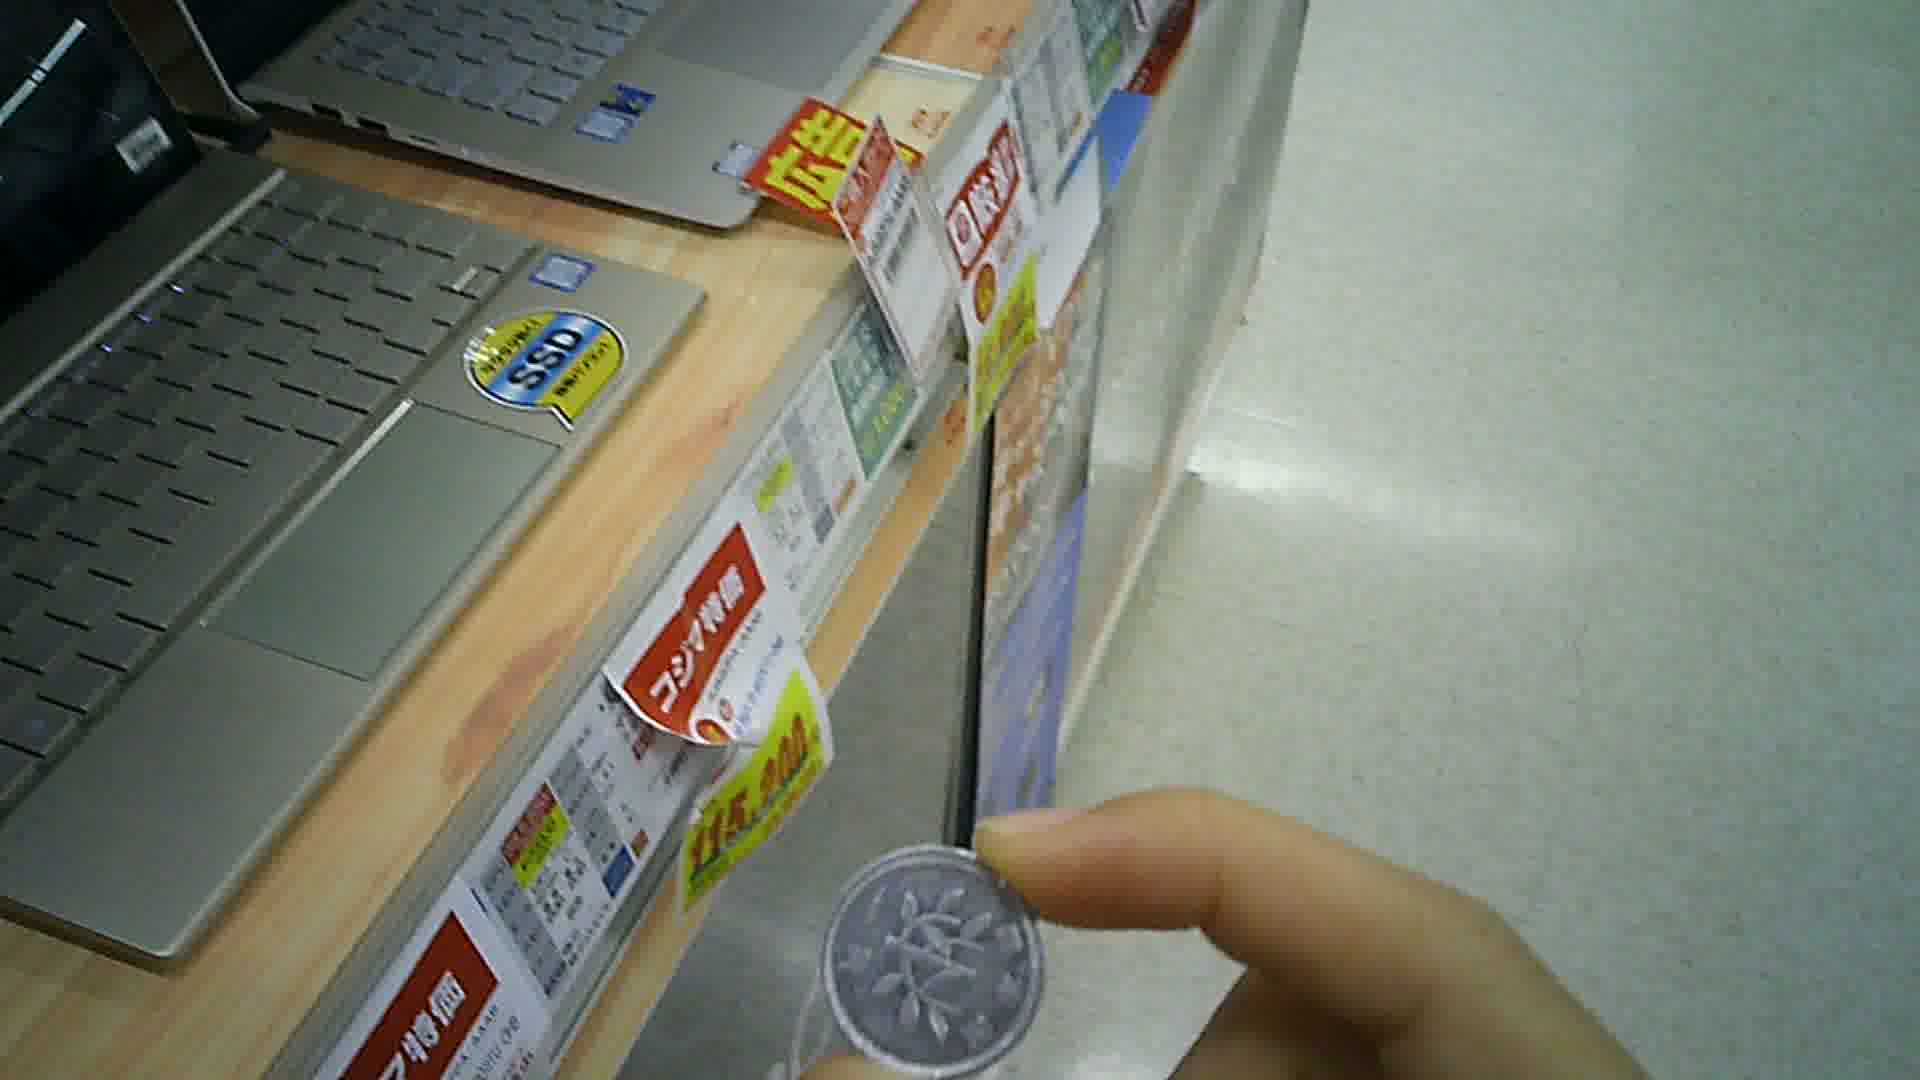1 Yen: (819, 829, 1052, 1067)
